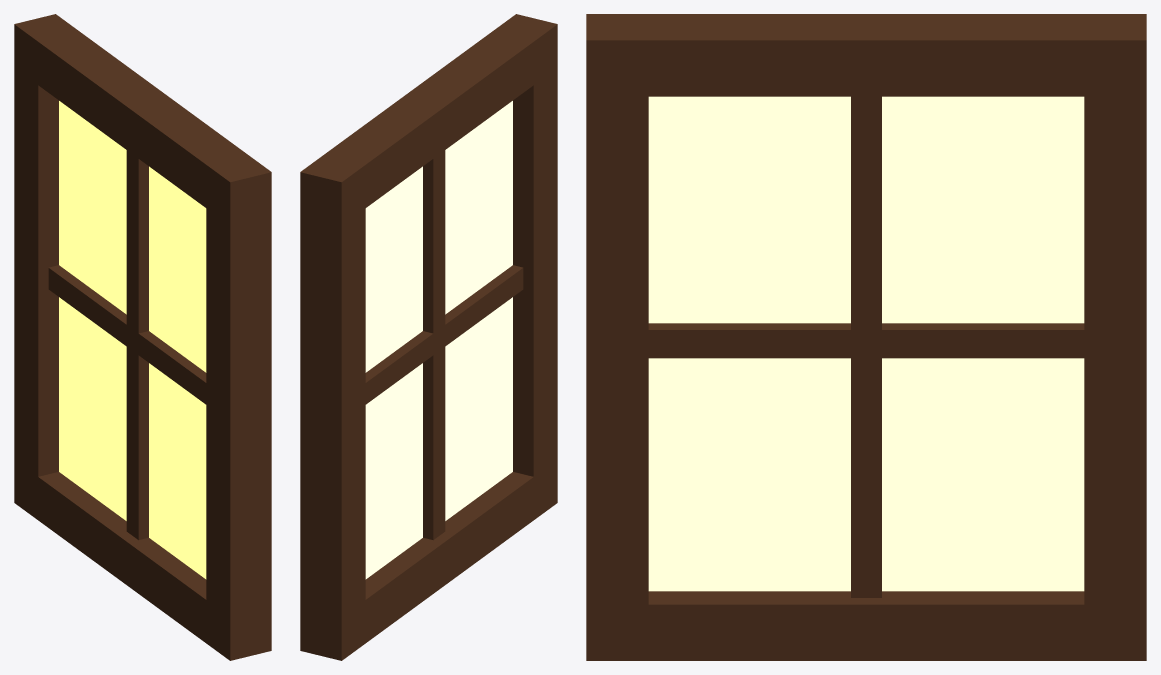
File: Window.fbx
The picture shows the model from 3 angles, left to right: view 1: azimuth 30°, elevation 25°; view 2: azimuth 150°, elevation 25°; view 3: azimuth 270°, elevation 25°; orthographic projection. The views are drawn at different scales.
Visible parts, largest first — view 1: Window; view 2: Window; view 3: Window.
Part boxes in pixels (bbox=[...]): Window: bbox=[14, 14, 271, 660]; Window: bbox=[300, 14, 557, 660]; Window: bbox=[586, 14, 1146, 660].
Size of the model in its own units: 0.01 by 0.11 by 0.09.
